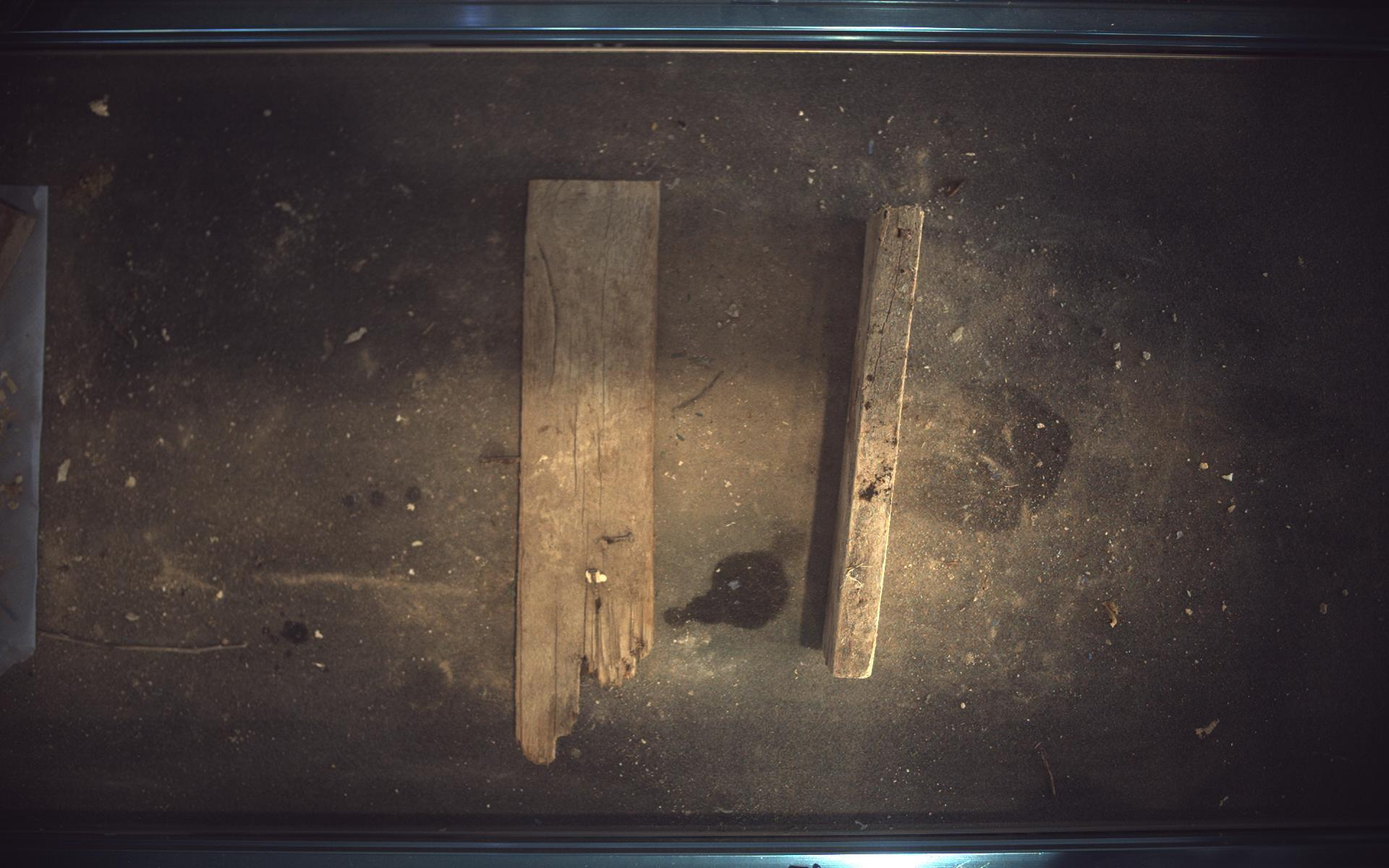wood: (517, 179, 660, 765), (825, 205, 926, 680), (1, 199, 34, 289)
